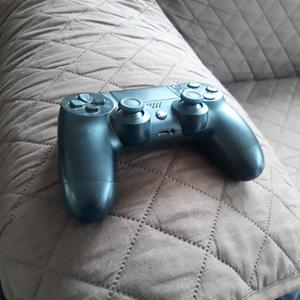controller: (58, 81, 265, 222)
